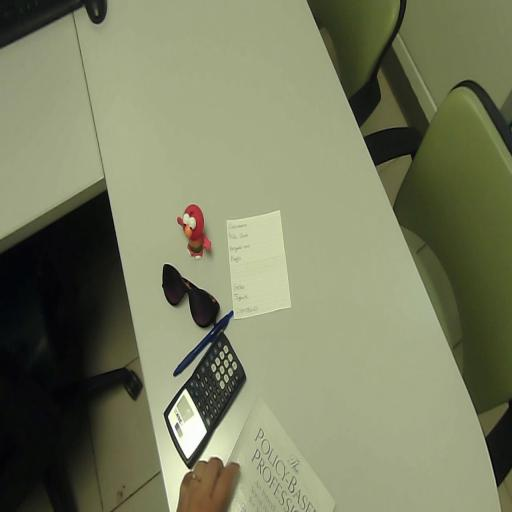pen: (173, 311, 233, 376)
